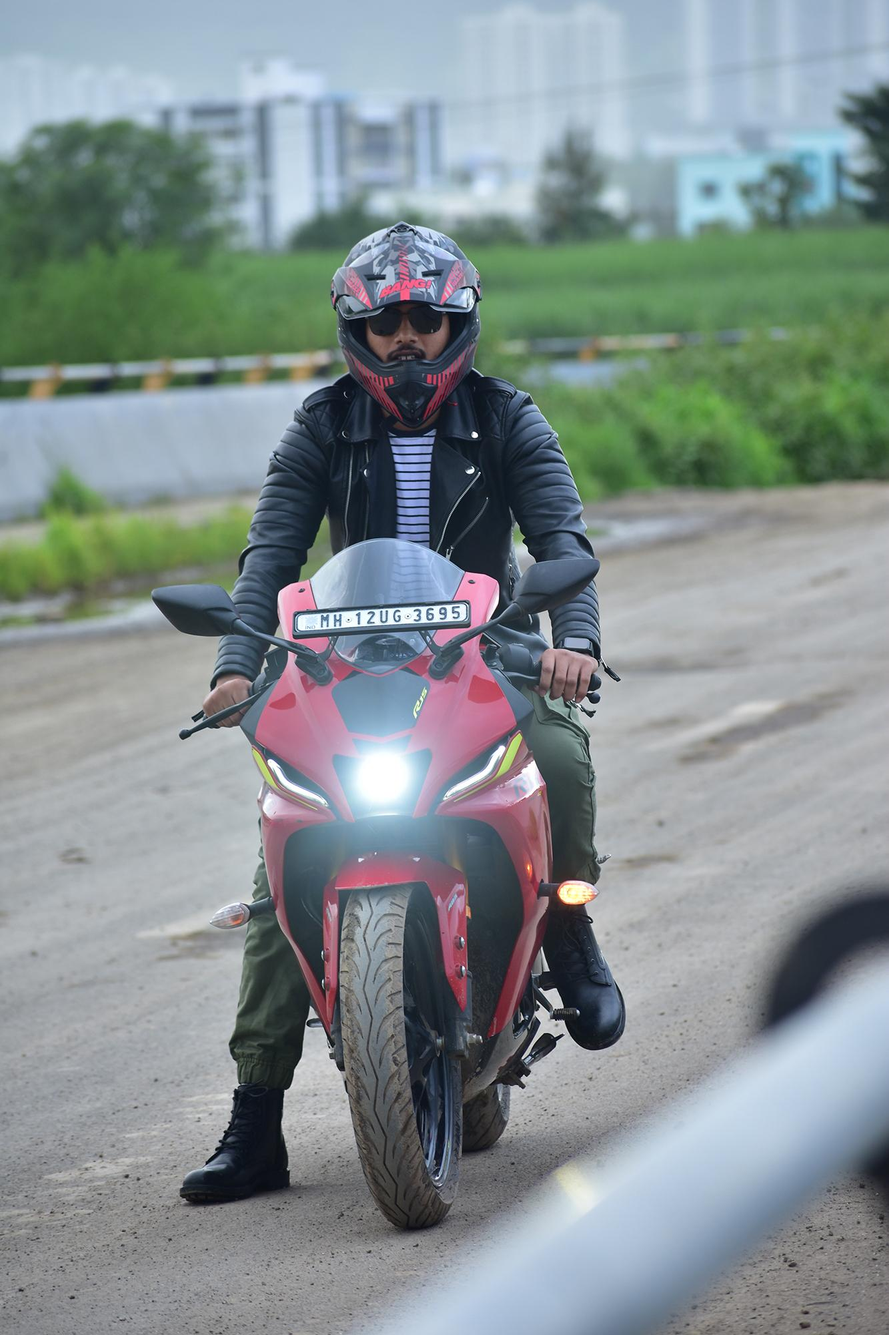helmet: (330, 220, 483, 430)
